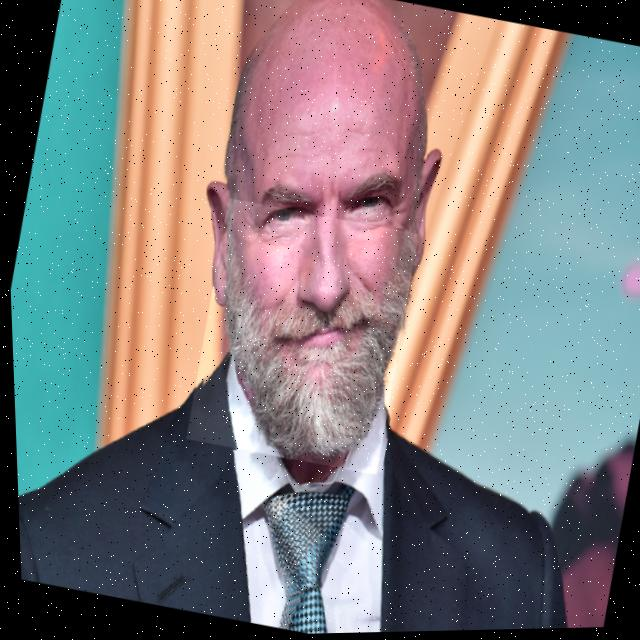beard: (220, 203, 410, 459)
